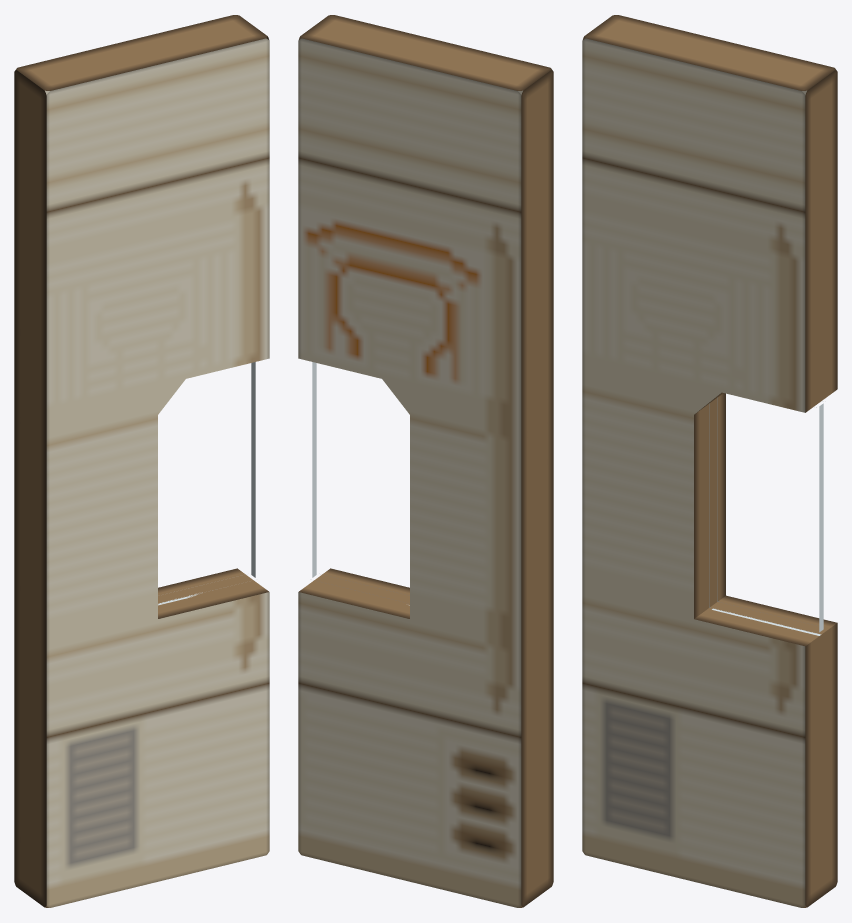
File: tile_wall_window_r.obj
3 renders of one model, left to right at view 1: azimuth 30°, elevation 25°; view 2: azimuth 150°, elevation 25°; view 3: azimuth 330°, elevation 25°, orthographic.
Parts seen in each view (by area): view 1: wall, window; view 2: wall, window; view 3: wall, window.
Part boxes in pixels (x1,y1,x2,y2): wall: (14, 15, 269, 907); window: (158, 362, 255, 605); wall: (298, 15, 553, 907); window: (312, 362, 409, 605); wall: (582, 15, 837, 907); window: (709, 397, 823, 635).
Bounding box in the file's own units: 1 × 3.5 × 0.25.
Materials: 1 (1 with a texture image).
